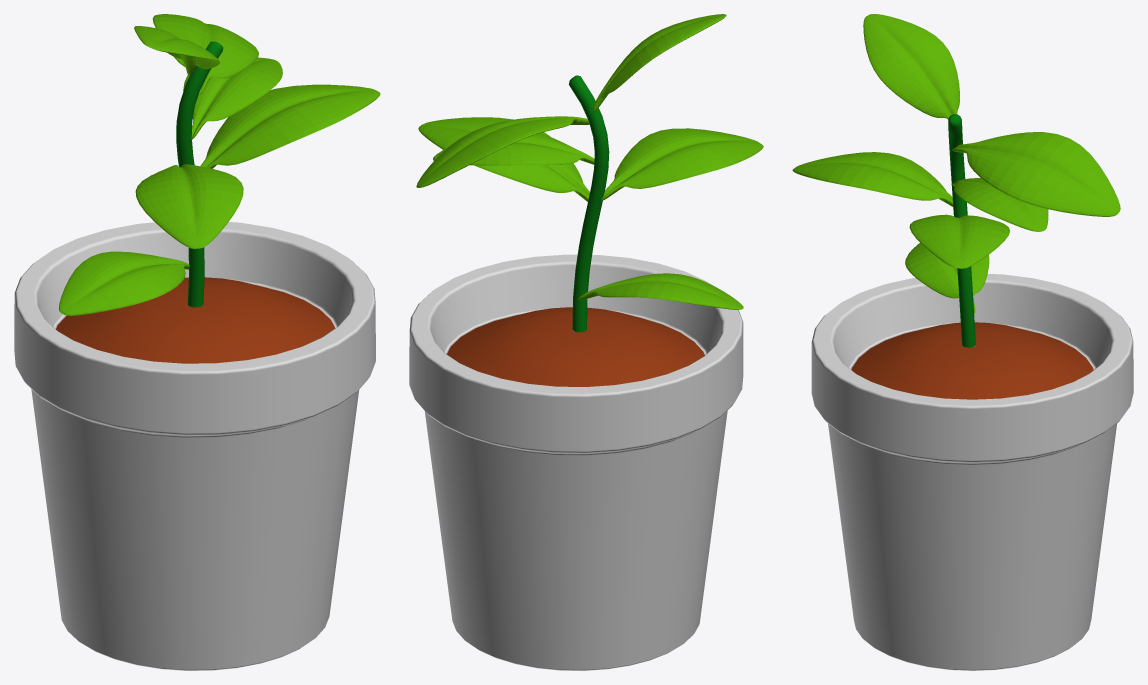
File: FinalRoom.glb
3 renders of one model, left to right at view 1: azimuth 30°, elevation 25°; view 2: azimuth 150°, elevation 25°; view 3: azimuth 270°, elevation 25°, orthographic. The views are drawn at different scales.
Visible parts, largest first — view 1: Pot, Leaf.005, Leaf.004, Leaf.006, Leaf.003, Leaf.002, Leaf Stem, Leaf.001; view 2: Pot, Leaf.004, Leaf Stem, Leaf.002, Leaf.005, Leaf.006, Leaf.001, Leaf.003; view 3: Pot, Leaf.002, Leaf.001, Leaf.004, Leaf.005, Leaf.003, Leaf Stem, Leaf.006.
Boxes of the visible parts, <box> form: Pot: <box>14,222,375,670</box>; Leaf.005: <box>200,84,380,168</box>; Leaf.004: <box>135,164,243,248</box>; Leaf.006: <box>59,251,189,315</box>; Leaf.003: <box>183,57,282,139</box>; Leaf.002: <box>152,14,258,94</box>; Leaf Stem: <box>176,41,223,307</box>; Leaf.001: <box>134,26,219,76</box>; Pot: <box>409,254,743,670</box>; Leaf.004: <box>601,128,763,200</box>; Leaf Stem: <box>569,75,609,332</box>; Leaf.002: <box>416,116,589,187</box>; Leaf.005: <box>418,117,589,201</box>; Leaf.006: <box>578,273,743,309</box>; Leaf.001: <box>593,14,726,112</box>; Leaf.003: <box>433,133,594,165</box>; Pot: <box>811,274,1133,670</box>; Leaf.002: <box>952,132,1120,216</box>; Leaf.001: <box>863,14,959,119</box>; Leaf.004: <box>792,152,953,206</box>; Leaf.005: <box>909,214,1009,268</box>; Leaf.003: <box>952,177,1048,231</box>; Leaf Stem: <box>948,114,975,347</box>; Leaf.006: <box>905,243,989,313</box>.
Size of the model in its own units: 2.44 by 4.45 by 2.45.
